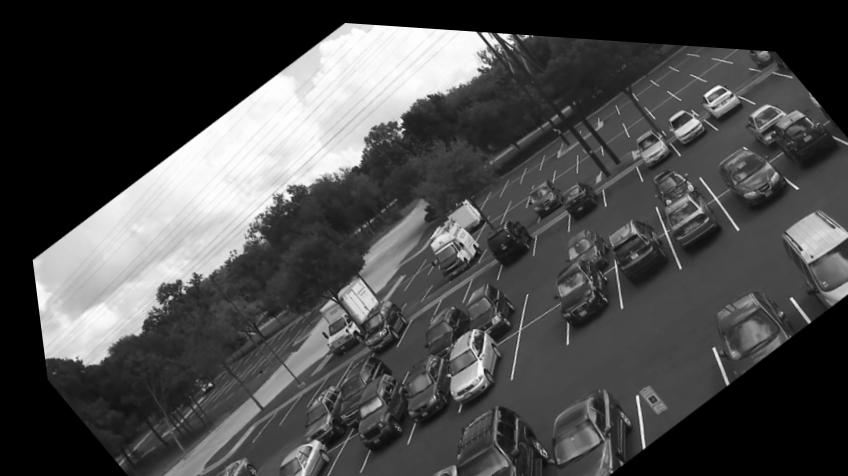empty: (623, 314, 710, 438), (500, 296, 553, 372), (597, 155, 641, 200), (242, 392, 289, 434), (687, 125, 735, 166), (737, 56, 787, 93), (314, 430, 352, 476), (391, 299, 428, 338), (274, 380, 309, 419), (426, 274, 462, 309), (521, 260, 546, 306), (531, 208, 561, 246), (646, 85, 682, 113), (717, 52, 753, 80), (611, 191, 645, 220), (308, 359, 339, 388), (459, 257, 490, 286), (400, 250, 429, 281), (671, 67, 705, 93), (599, 119, 627, 148), (624, 103, 654, 130), (381, 344, 410, 371), (572, 138, 598, 168), (696, 49, 731, 70), (663, 62, 693, 85), (617, 96, 647, 119), (496, 191, 522, 217), (639, 79, 669, 101), (472, 207, 497, 233), (612, 82, 638, 107), (574, 126, 598, 153), (597, 110, 621, 135), (685, 71, 710, 95), (629, 69, 656, 90), (550, 142, 573, 166), (550, 155, 573, 177), (503, 176, 526, 198), (480, 190, 502, 213), (687, 47, 713, 66), (538, 132, 556, 159), (529, 156, 549, 180), (650, 56, 673, 76), (597, 94, 617, 116), (478, 178, 498, 199), (518, 151, 535, 175), (670, 45, 695, 60), (720, 38, 746, 52), (499, 165, 516, 186), (506, 204, 529, 216), (689, 36, 712, 46), (572, 164, 590, 176), (709, 38, 729, 47)
occupied: (763, 195, 848, 299), (704, 273, 788, 366), (542, 373, 613, 476), (449, 398, 530, 476), (710, 132, 784, 202), (764, 94, 837, 161), (436, 322, 499, 399), (347, 369, 400, 448), (603, 208, 660, 281), (656, 176, 716, 244), (548, 249, 602, 322), (396, 349, 442, 422), (345, 296, 402, 353), (423, 212, 474, 275), (329, 352, 378, 408), (481, 213, 530, 269), (414, 298, 463, 352), (459, 276, 509, 327), (294, 381, 333, 440), (265, 436, 319, 476), (563, 222, 604, 263), (743, 94, 785, 133), (699, 74, 741, 113), (557, 174, 594, 215), (522, 171, 559, 211), (633, 120, 669, 159), (666, 100, 704, 136), (649, 161, 684, 191), (198, 455, 245, 476), (414, 456, 444, 476)
